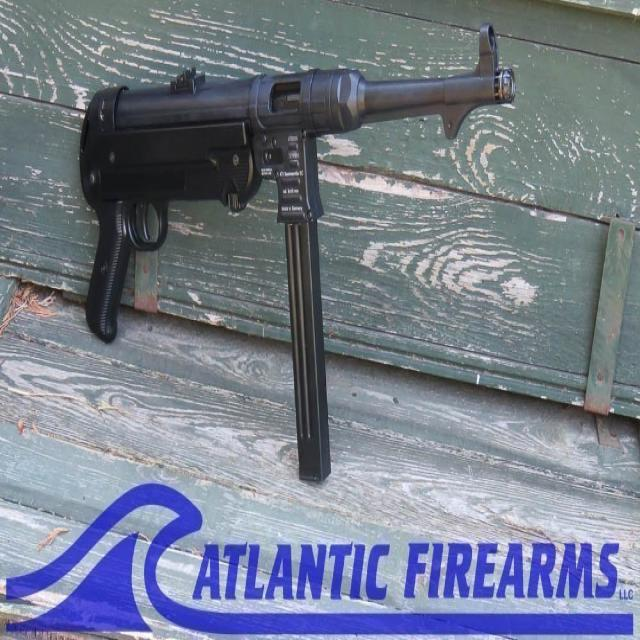SMG: (78, 26, 517, 486)
